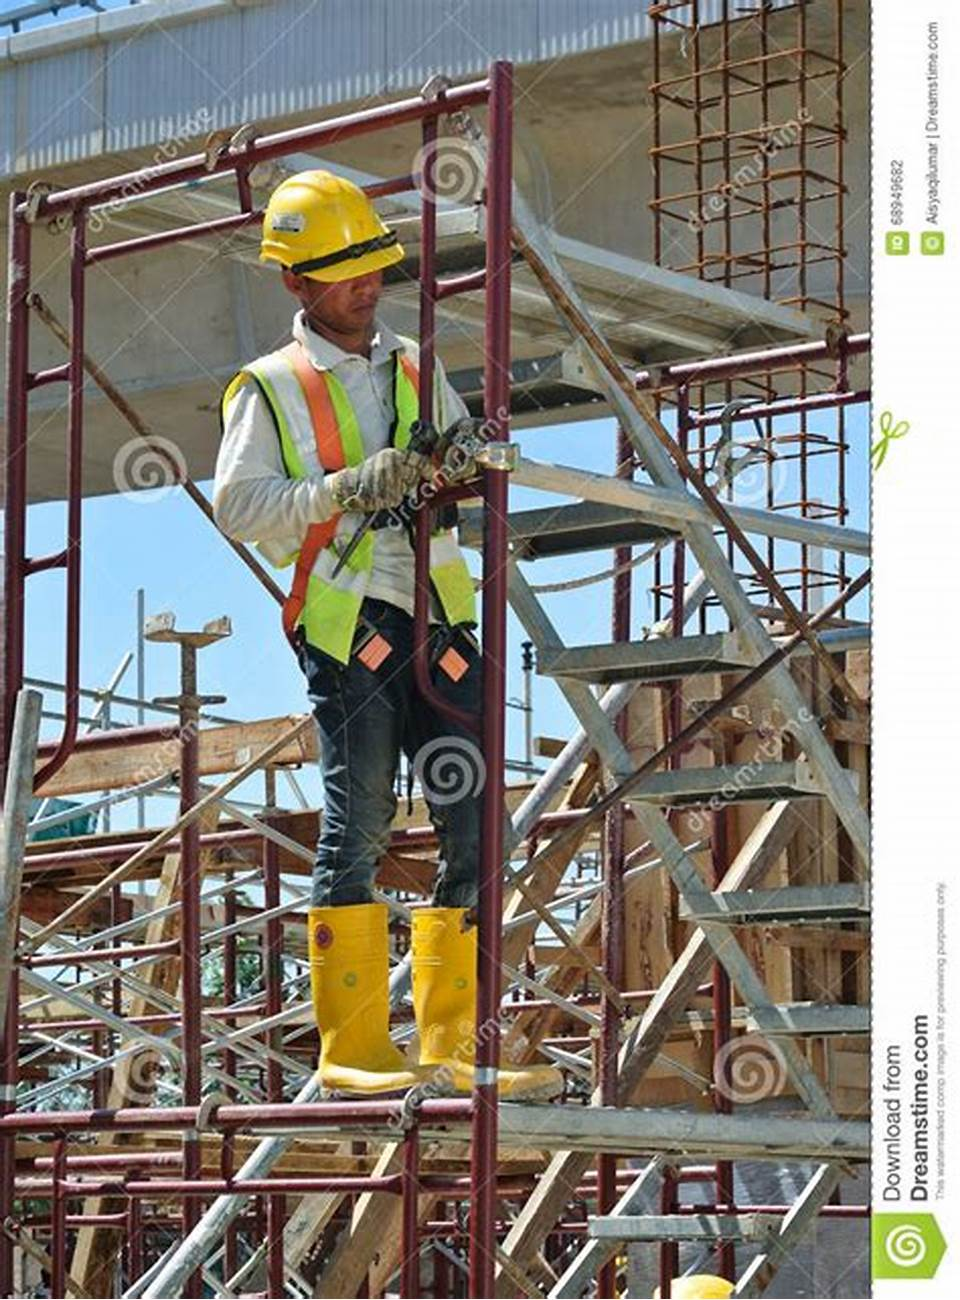safetyhat: (172, 156, 582, 1116)
